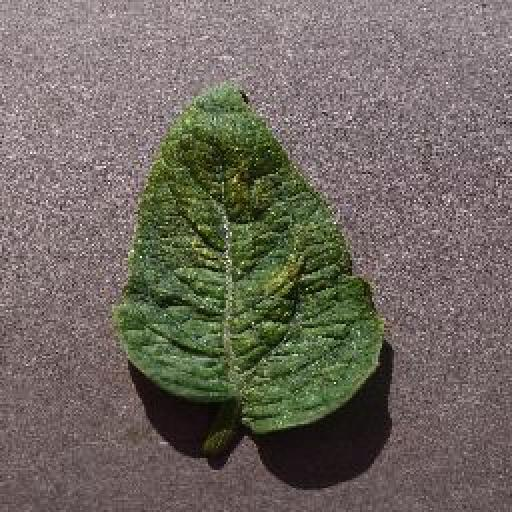disease_tomato: (116, 83, 382, 437)
